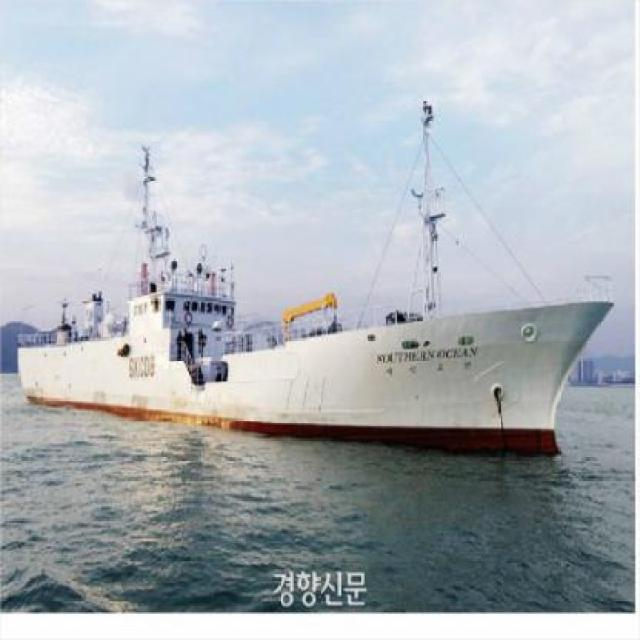fish-b: (17, 86, 619, 466)
